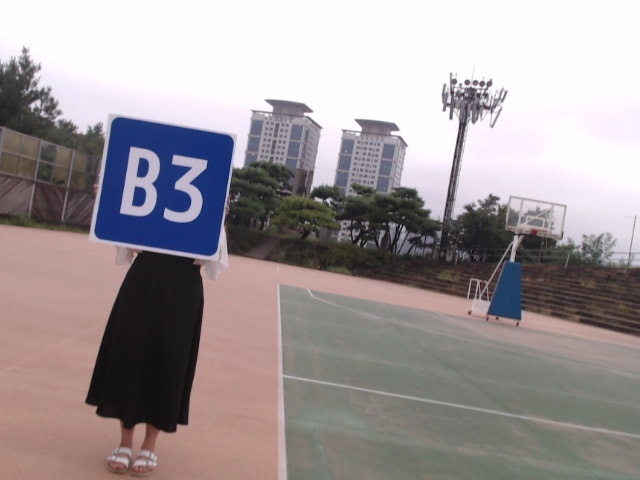delivery_b3: (92, 116, 236, 259)
